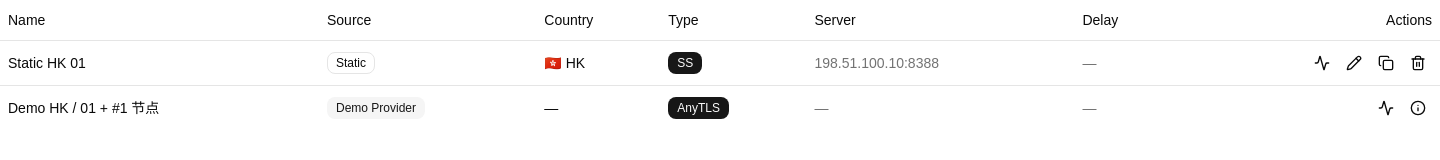
Test: ProxyList (unified static + subscription nodes) › tests a subscription node through the provider-scoped healthcheck with its real name
Step 1. Click the button titled "Test Delay" in the row of "Demo HK / 01 + #1 节点" → (1386, 108), box top-left (1372, 94), bottom-right (1400, 122)
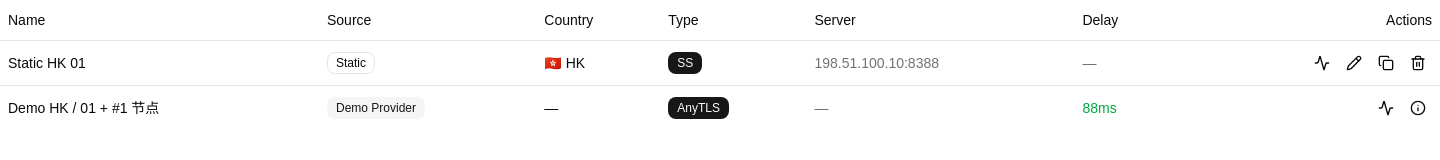
Expected: the text "88ms" is shown, top-left (1082, 100), bottom-right (1117, 116)
